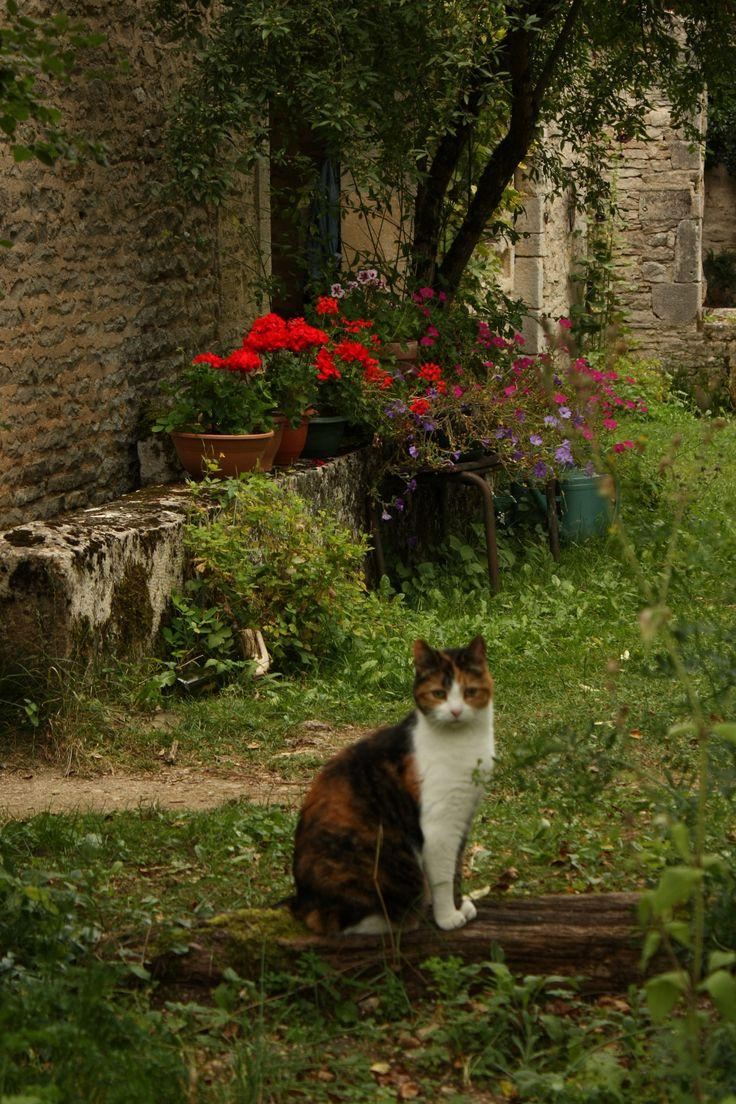kedo: (295, 638, 498, 928)
